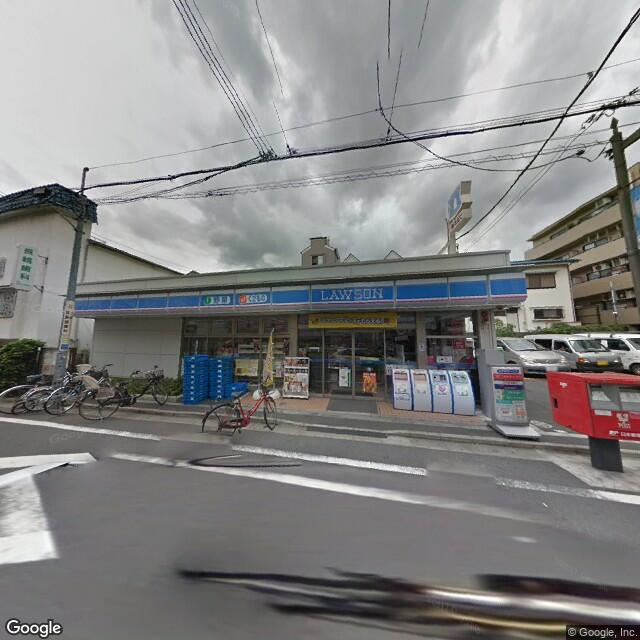lawson: (72, 267, 531, 319), (446, 179, 471, 221)
